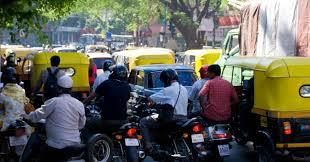helmet: (159, 68, 179, 89), (108, 64, 129, 81), (1, 66, 18, 84), (6, 55, 16, 67)
nohelmet: (56, 75, 74, 98), (207, 64, 222, 81), (49, 55, 61, 71)
